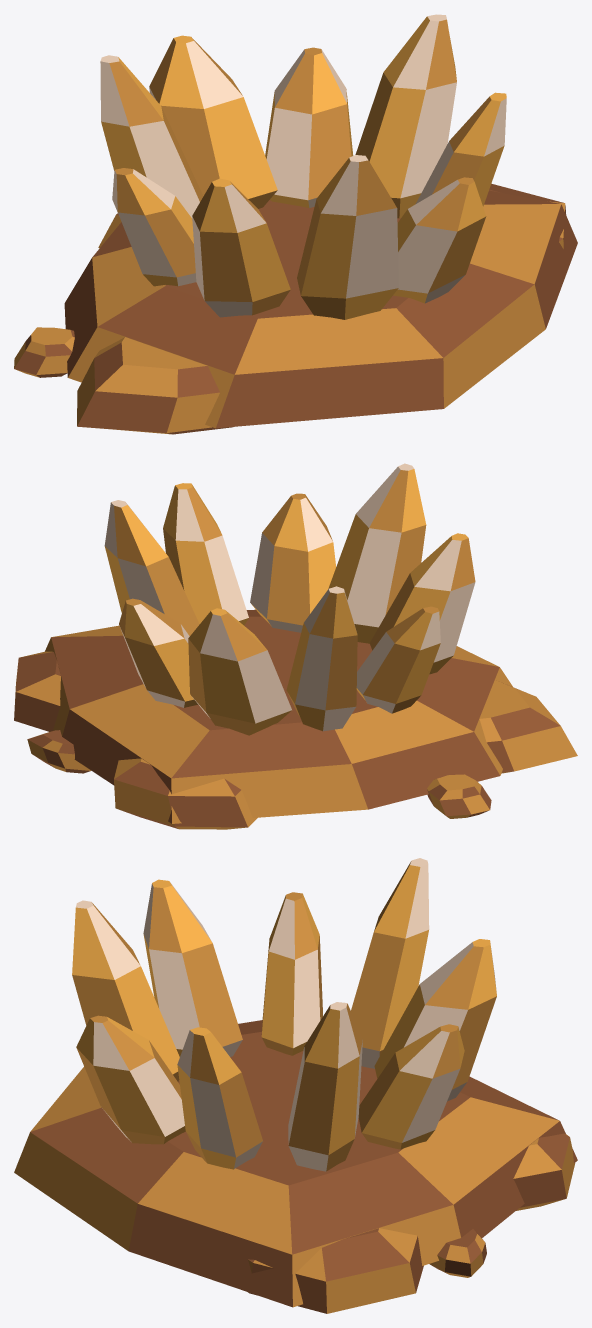
The model's file is BH_ORE_O14_Cristal_de_Brasa_V01.glb.
The picture shows the model from 3 angles, top to bottom: view 1: azimuth 30°, elevation 25°; view 2: azimuth 150°, elevation 25°; view 3: azimuth 270°, elevation 25°; orthographic projection. The views are drawn at different scales.
Visible parts, largest first — view 1: Bedrock | primary.001, O14 | shard 3.001, O14 | shard 6.001, O14 | shard 8.001, Bedrock | shoulder 1.001, O14 | shard 7.001, O14 | shard 2.001, O14 | shard 4.001, O14 | shard 9.001, O14 | shard 1.001, O14 | shard 5.001, Loose chip 2.001; view 2: Bedrock | primary.001, O14 | shard 3.001, O14 | shard 8.001, O14 | shard 4.001, O14 | shard 9.001, O14 | shard 5.001, Bedrock | shoulder 3.001, O14 | shard 6.001, O14 | shard 2.001, O14 | shard 1.001, Bedrock | shoulder 1.001, O14 | shard 7.001 (+3 smaller); view 3: Bedrock | primary.001, O14 | shard 2.001, O14 | shard 6.001, O14 | shard 9.001, O14 | shard 4.001, O14 | shard 7.001, O14 | shard 3.001, Bedrock | shoulder 2.001, O14 | shard 5.001, O14 | shard 8.001, O14 | shard 1.001, Bedrock | shoulder 3.001 (+1 smaller).
Boxes of the visible parts, x1=… form: Bedrock | primary.001: x1=64, y1=190, x2=577, y2=428; O14 | shard 3.001: x1=297, y1=155, x2=398, y2=319; O14 | shard 6.001: x1=355, y1=14, x2=456, y2=218; O14 | shard 8.001: x1=149, y1=35, x2=277, y2=208; Bedrock | shoulder 1.001: x1=77, y1=337, x2=232, y2=434; O14 | shard 7.001: x1=265, y1=47, x2=353, y2=208; O14 | shard 2.001: x1=192, y1=178, x2=290, y2=317; O14 | shard 4.001: x1=393, y1=177, x2=486, y2=303; O14 | shard 9.001: x1=100, y1=55, x2=203, y2=218; O14 | shard 1.001: x1=112, y1=168, x2=196, y2=286; O14 | shard 5.001: x1=416, y1=92, x2=506, y2=206; Loose chip 2.001: x1=14, y1=327, x2=74, y2=377; Bedrock | primary.001: x1=45, y1=609, x2=512, y2=823; O14 | shard 3.001: x1=328, y1=463, x2=426, y2=643; O14 | shard 8.001: x1=188, y1=608, x2=291, y2=735; O14 | shard 4.001: x1=250, y1=493, x2=335, y2=632; O14 | shard 9.001: x1=286, y1=586, x2=357, y2=731; O14 | shard 5.001: x1=163, y1=483, x2=248, y2=625; Bedrock | shoulder 3.001: x1=114, y1=758, x2=257, y2=829; O14 | shard 6.001: x1=104, y1=500, x2=199, y2=635; O14 | shard 2.001: x1=369, y1=533, x2=475, y2=674; O14 | shard 1.001: x1=356, y1=606, x2=440, y2=713; Bedrock | shoulder 1.001: x1=479, y1=680, x2=577, y2=773; O14 | shard 7.001: x1=119, y1=598, x2=197, y2=707; Bedrock | primary.001: x1=14, y1=1020, x2=577, y2=1307; O14 | shard 2.001: x1=143, y1=879, x2=242, y2=1056; O14 | shard 6.001: x1=288, y1=1002, x2=362, y2=1171; O14 | shard 9.001: x1=351, y1=858, x2=429, y2=1068; O14 | shard 4.001: x1=76, y1=1015, x2=185, y2=1144; O14 | shard 7.001: x1=358, y1=1024, x2=464, y2=1149; O14 | shard 3.001: x1=72, y1=900, x2=179, y2=1081; Bedrock | shoulder 2.001: x1=248, y1=1228, x2=423, y2=1313; O14 | shard 5.001: x1=177, y1=1027, x2=262, y2=1169; O14 | shard 8.001: x1=374, y1=939, x2=496, y2=1101; O14 | shard 1.001: x1=261, y1=892, x2=322, y2=1055; Bedrock | shoulder 3.001: x1=513, y1=1133, x2=575, y2=1210.
Bounding box in the file's own units: 2.68 × 1.17 × 2.26.
